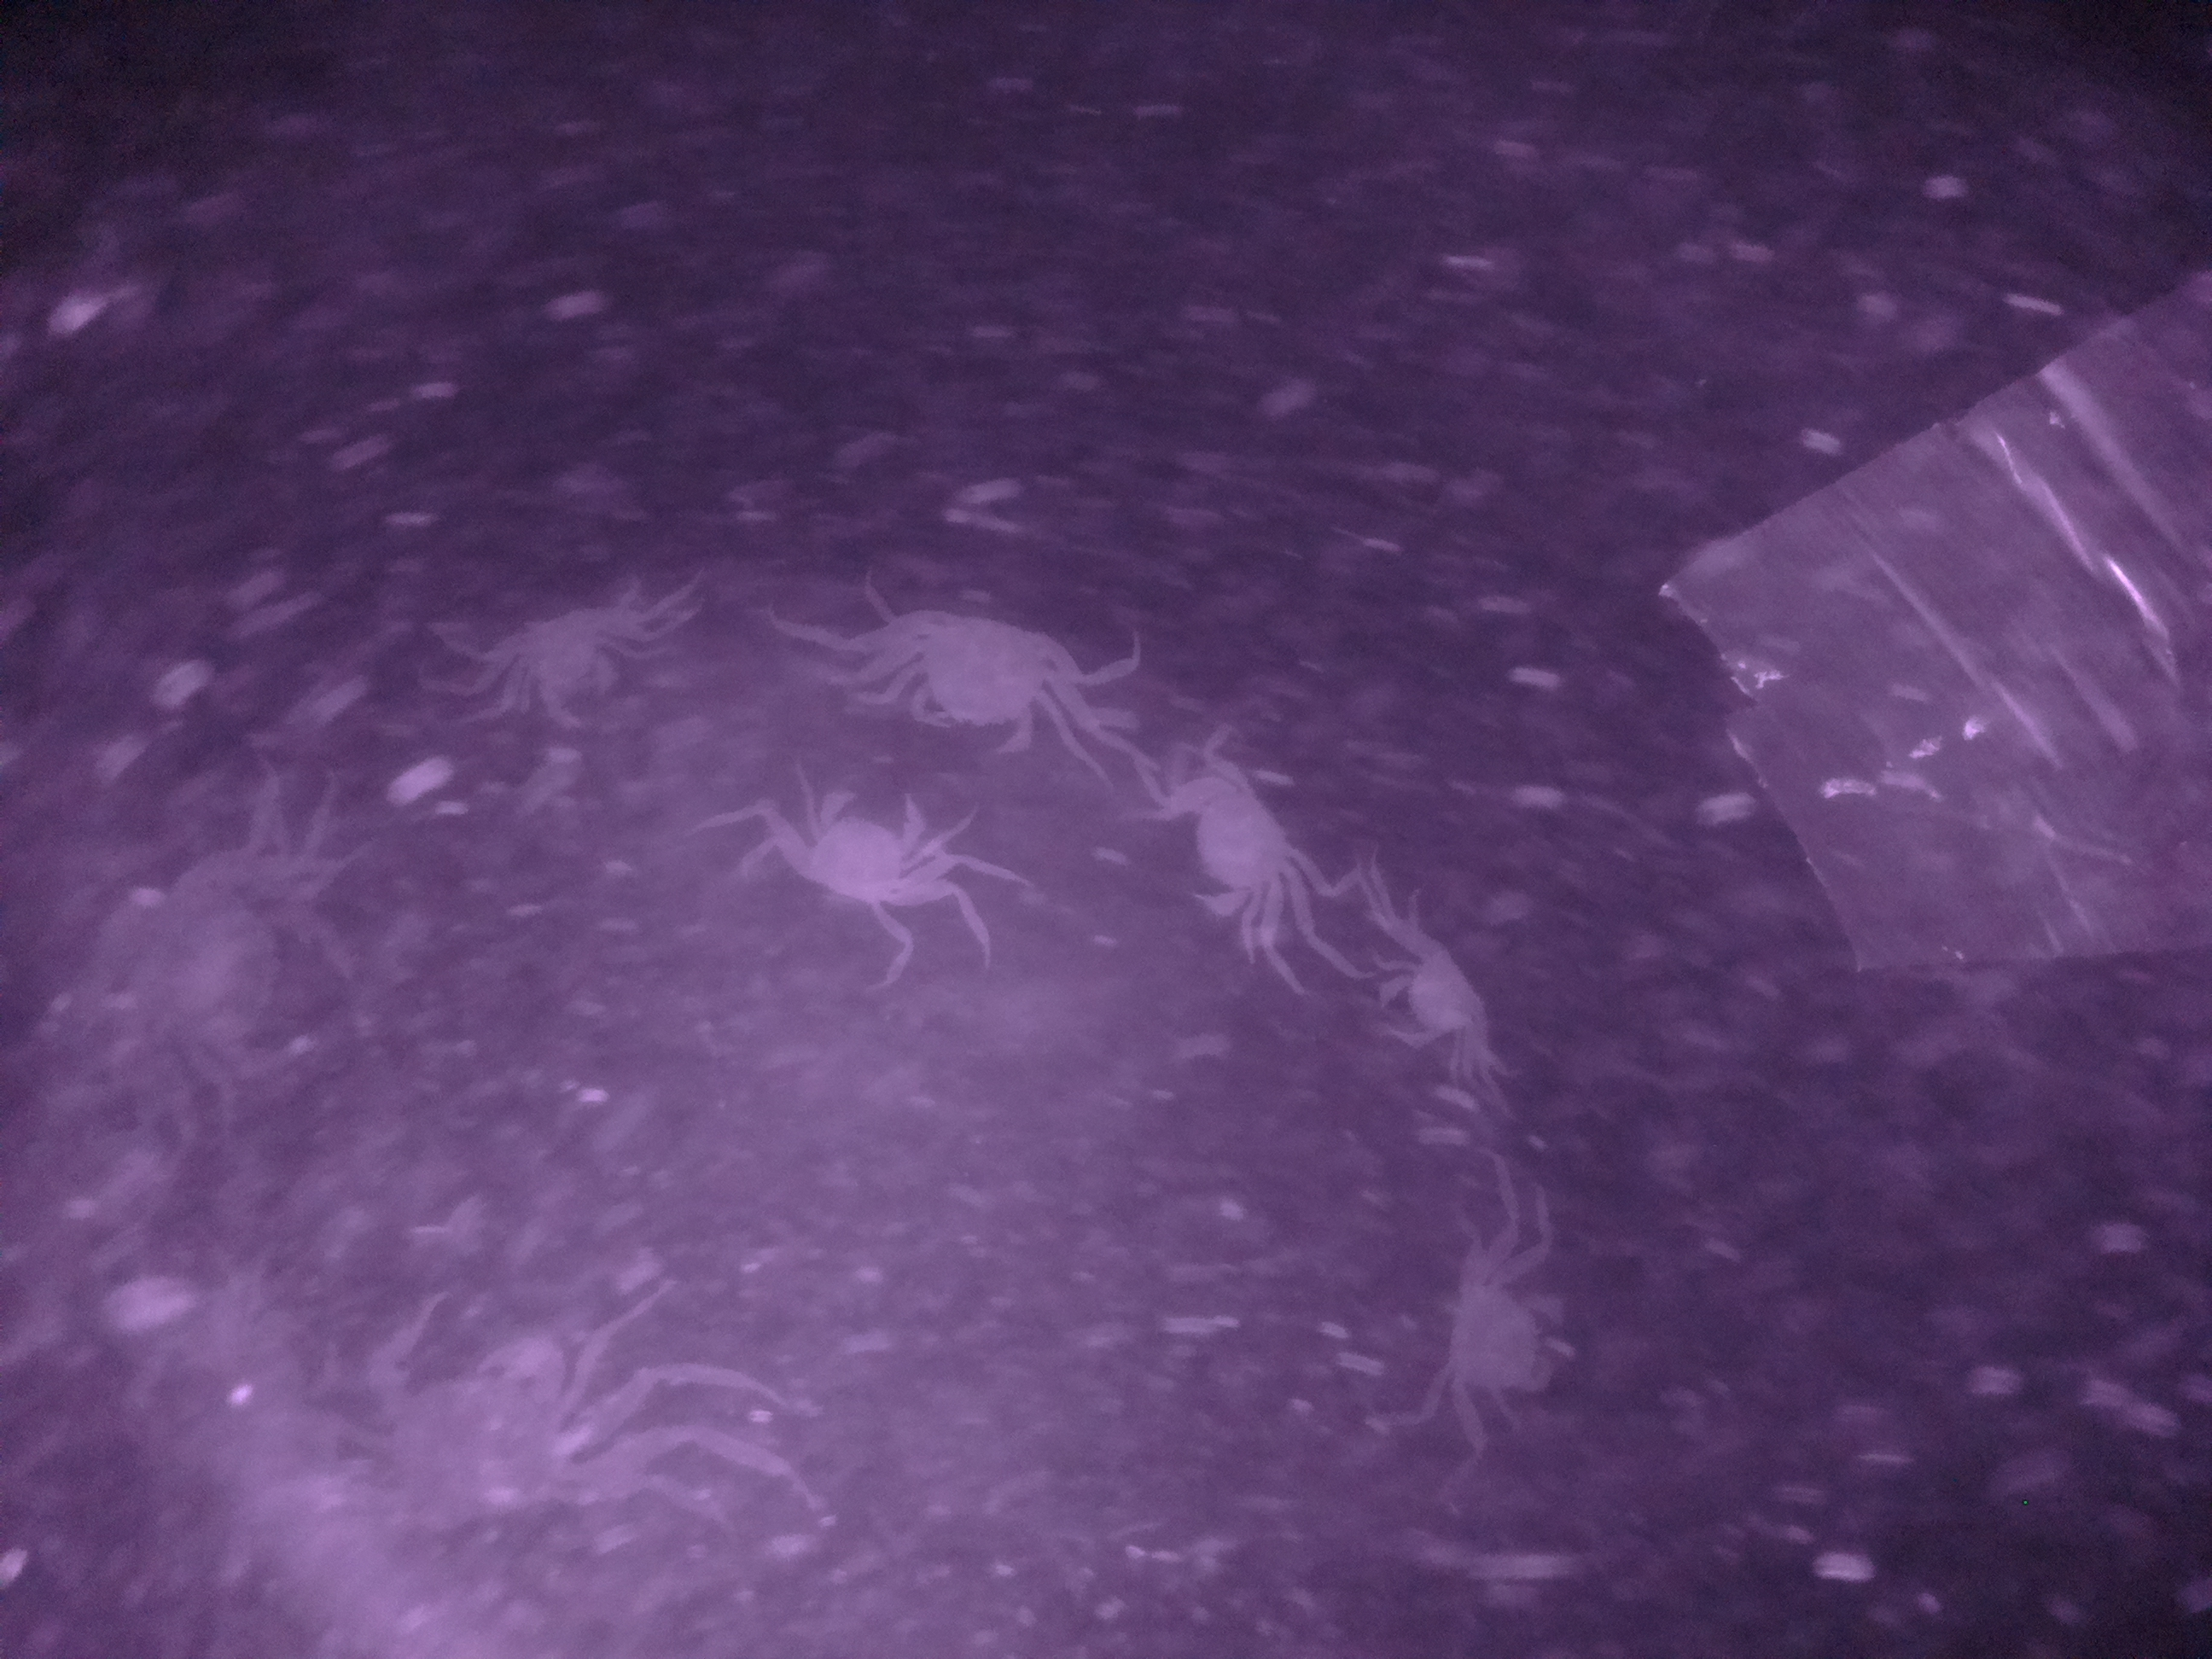Crab: (881, 589, 1082, 762), (1418, 1249, 1595, 1419), (1148, 758, 1315, 927), (765, 788, 944, 911), (496, 598, 637, 737), (1360, 932, 1503, 1066)
